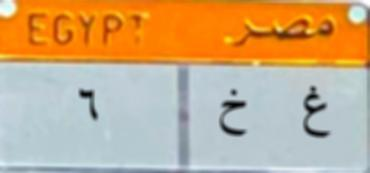6: (64, 85, 112, 134)
ghayn: (290, 82, 338, 152)
khaa: (206, 86, 253, 152)
